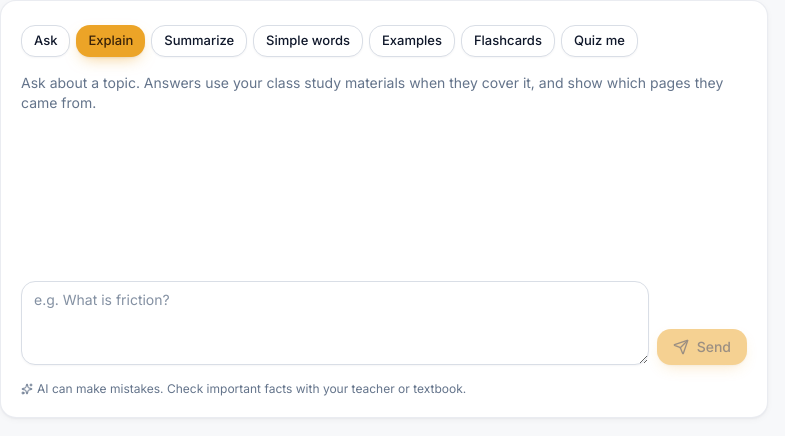
Test: StudyAssistantTab › says when the answer did not come from school materials
Click the button "Ask": (46, 41) [21,25,70,57]
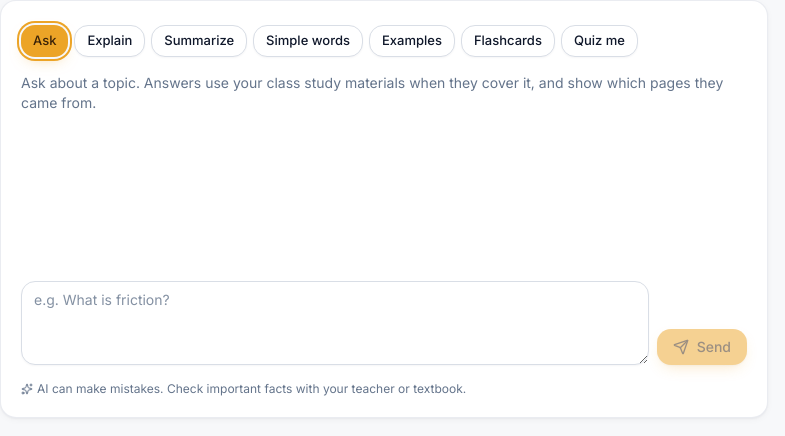
In the text box named "Study question": (335, 323) [21,281,649,365], type "what is gravity"
Then press Enter
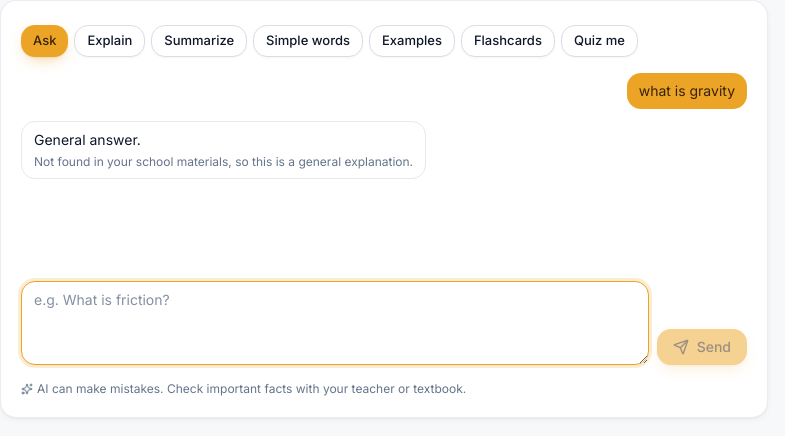
Expected: the text "Not found in your school materials" is shown, [34,154,413,169]
